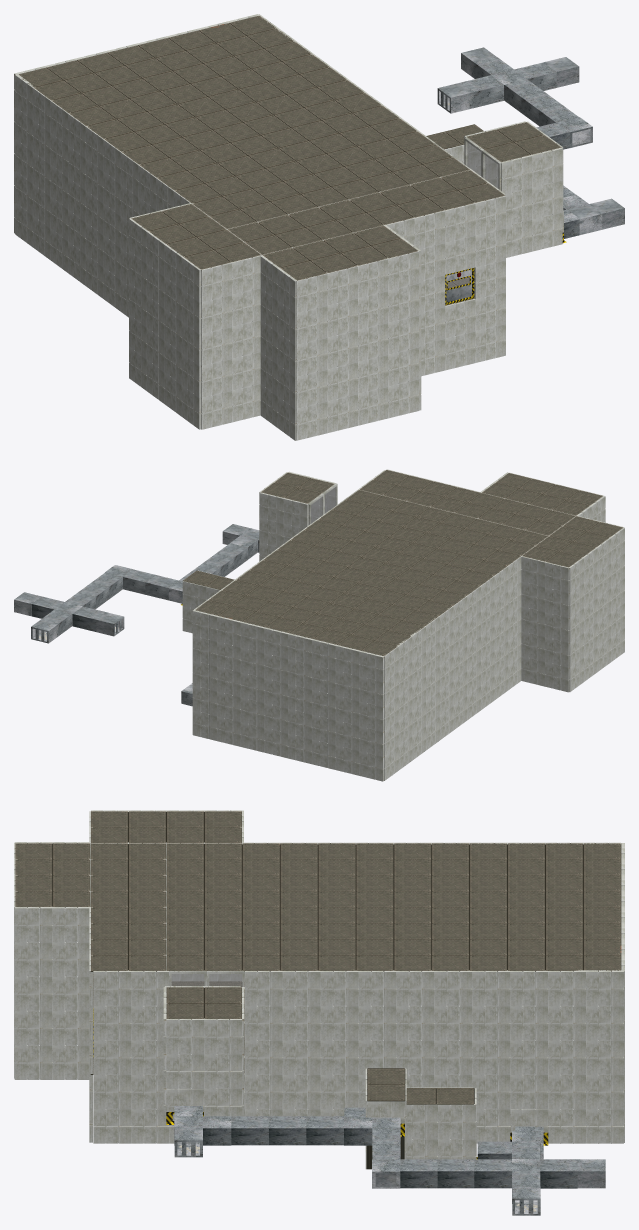
File: Level4 new.fbx
3 views of the same model, one above another, from view 1: azimuth 30°, elevation 25°; view 2: azimuth 150°, elevation 25°; view 3: azimuth 270°, elevation 25° (orthographic). The views are drawn at different scales.
Parts seen in each view (by area): view 1: Roof, Wall_1.001, Wall_1.006, Wall_1.003, Wall_1.007, Wall_1.004, Wall_1.008, Wall_1.023, Wall_2.001, Wall_1, Door, Vent_1.015 (+10 smaller); view 2: Roof, Wall_1, Wall_1.001, Wall_1.007, Wall_1.005, Wall_1.022, Wall_1.017, Wall_2.001, Vent_1.015, Floor, Vent_3.002, Vent_1.031 (+6 smaller); view 3: Roof, Wall_1.002, Wall_1.009, Wall_1.021, Wall_1.013, Floor, Wall_2.002, Vent_1.011, Vent_1.034, Vent_1.022, Vent_1.014, Vent_1.001 (+16 smaller).
Boxes of the visible parts, box(x1,y1,x2,y2) form: Roof: box(19, 15, 561, 280); Wall_1.001: box(15, 74, 193, 317); Wall_1.006: box(296, 251, 418, 440); Wall_1.003: box(383, 195, 505, 376); Wall_1.007: box(129, 218, 201, 429); Wall_1.004: box(201, 255, 262, 429); Wall_1.008: box(260, 255, 296, 440); Wall_1.023: box(501, 147, 562, 257); Wall_2.001: box(464, 137, 501, 190); Wall_1: box(14, 14, 258, 233); Door: box(445, 268, 474, 305); Vent_1.015: box(461, 75, 503, 107); Roof: box(195, 470, 622, 655); Wall_1: box(193, 610, 384, 781); Wall_1.001: box(383, 555, 521, 780); Wall_1.007: box(569, 527, 624, 691); Wall_1.005: box(521, 556, 569, 692); Wall_1.022: box(260, 492, 308, 560); Wall_1.017: box(182, 581, 219, 633); Wall_2.001: box(308, 483, 337, 524); Vent_1.015: box(72, 606, 105, 631); Floor: box(183, 570, 384, 780); Vent_3.002: box(96, 612, 124, 636); Vent_1.031: box(145, 575, 178, 600); Roof: box(15, 811, 621, 1019); Wall_1.002: box(93, 970, 623, 1143); Wall_1.009: box(14, 906, 89, 1079); Wall_1.021: box(166, 1018, 242, 1120); Wall_1.013: box(406, 1104, 475, 1159); Floor: box(90, 972, 611, 1143); Wall_2.002: box(169, 970, 244, 1074); Vent_1.011: box(268, 1116, 306, 1145); Vent_1.034: box(437, 1159, 475, 1188); Vent_1.022: box(540, 1159, 577, 1188); Vent_1.014: box(306, 1116, 343, 1145); Vent_1.001: box(231, 1116, 268, 1145).
Size of the model in its own units: 14164 by 3765 by 12091.
